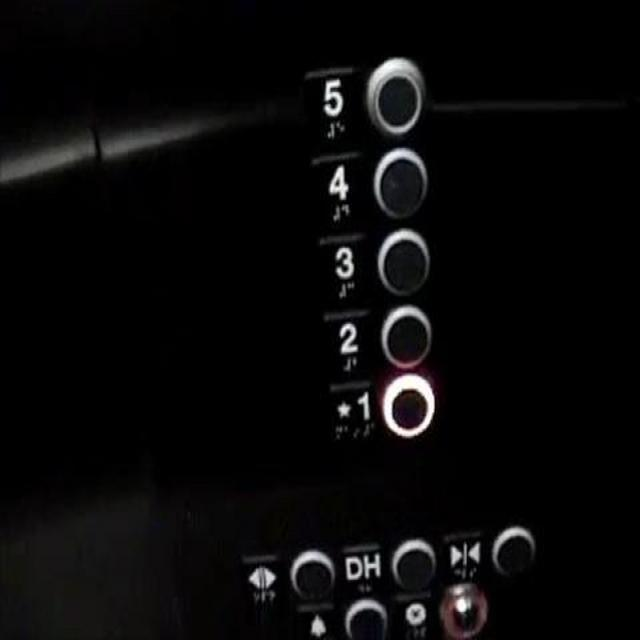2: (318, 305, 437, 376)
3: (310, 224, 434, 303)
4: (304, 144, 433, 224)
5: (299, 51, 428, 148)
DH: (339, 536, 437, 593)
alarm: (304, 594, 392, 638)
close: (440, 522, 540, 582)
open: (238, 546, 336, 606)
s1: (322, 371, 439, 446)
stop: (390, 580, 491, 639)
